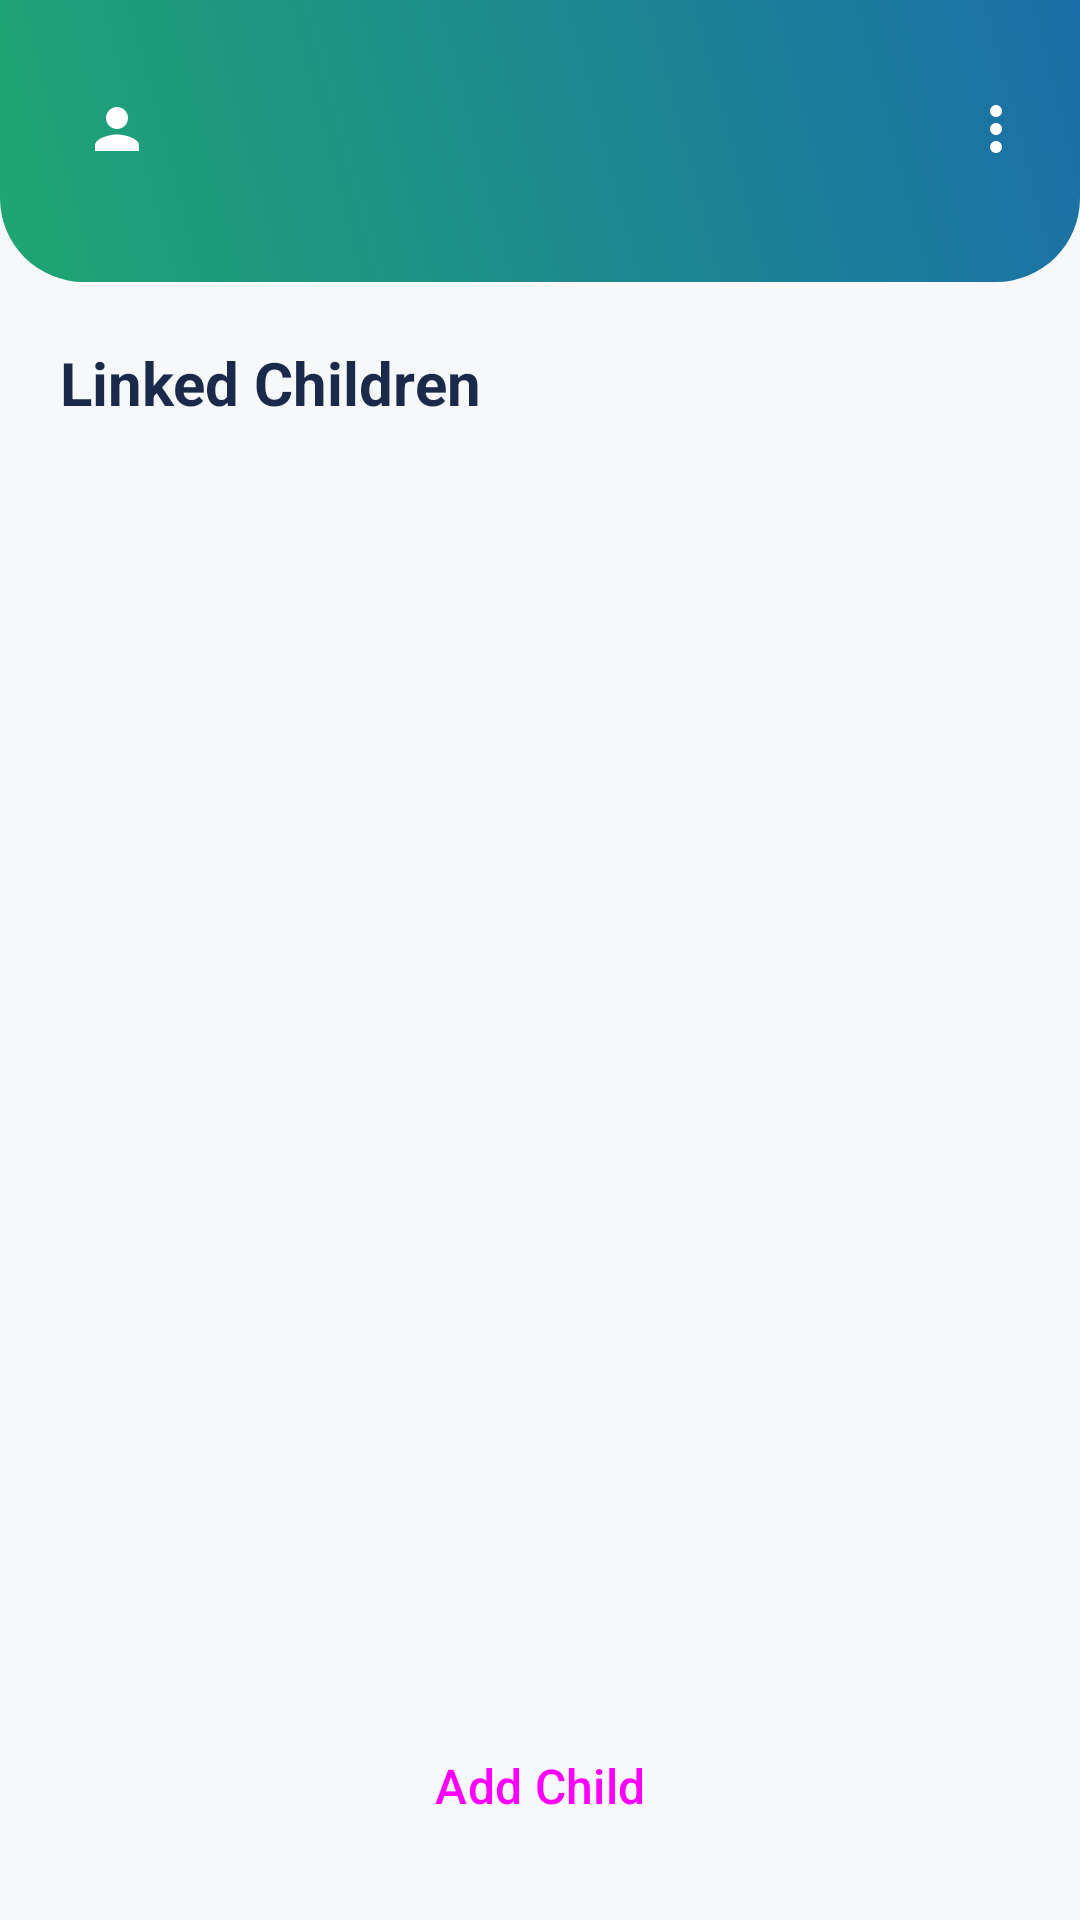

Icon click points for this 1080 x 1920 phone screenshot, format (x,y):
person: (117,129)
